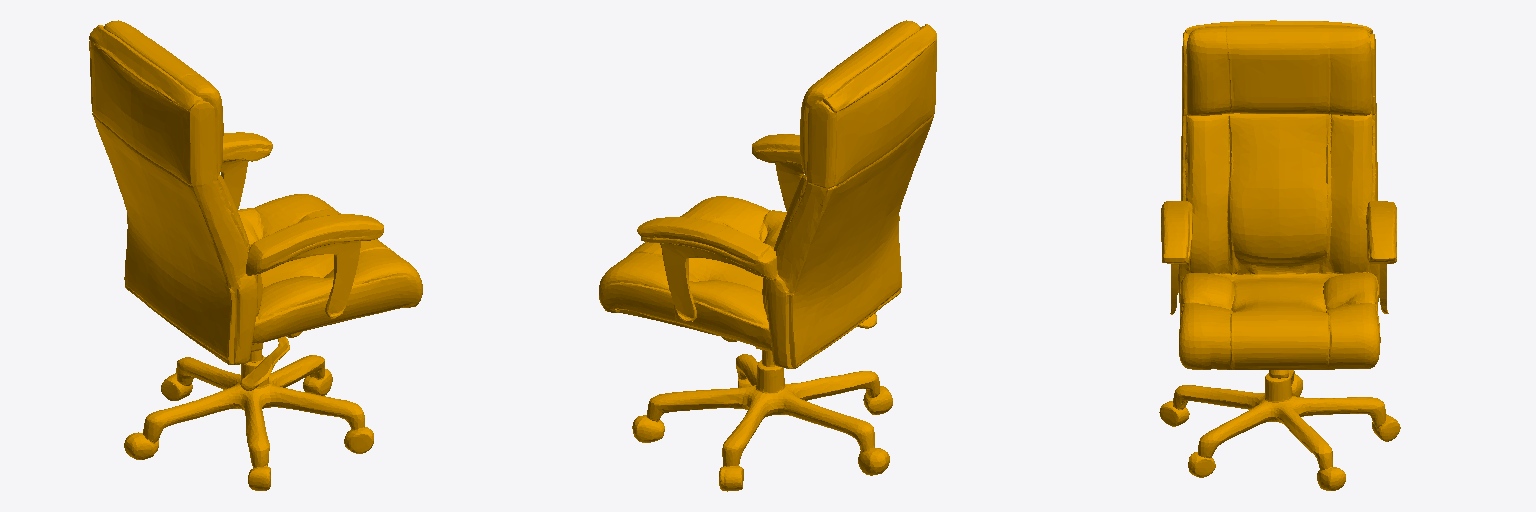
robot.urdf — office_chair_12:
<?xml version="1.0" ?>
<robot name="office_chair_12">
   <link name="office_chair_12">
      <visual>
         <origin xyz="0 0 0" rpy="1.5708 0.0 0.0"/>
         <geometry>
            <mesh filename="mesh/office_chair_12.obj" scale="1.0 1.0 1.0"/>
         </geometry>
      </visual>
      <collision>
         <origin xyz="0 0 0" rpy="1.5708 0.0 0.0"/>
         <geometry>
            <mesh filename="mesh/office_chair_12_collision.obj" scale="1.0 1.0 1.0"/>
         </geometry>
         <gazebo>
            <mu1>0.80</mu1>
            <mu2>0.60</mu2>
         </gazebo>
      </collision>
      <inertial>
         <mass value="15.0000"/>
         <origin xyz="0 0 0"/>
         <inertia ixx="1.0" ixy="0.0" ixz="0.0" iyy="1.0" iyz="0.0" izz="1.0"/>
      </inertial>
      <extra_info>
         <scale>1.100000</scale>
         <version>v0.1.5</version>
         <category>office_chair</category>
         <description>ergonomic office chair with padded seat, backrest, armrests, and wheeled base</description>
         <min_height>1.0</min_height>
         <max_height>1.2</max_height>
         <real_height>1.1</real_height>
         <min_mass>12.0</min_mass>
         <max_mass>18.0</max_mass>
         <generate_time>20251021113035</generate_time>
         <gs_model>mesh/office_chair_12_gs.ply</gs_model>
      </extra_info>
   </link>
   <custom_data>
      <quality>
         <MeshGeoChecker>YES</MeshGeoChecker>
         <ImageSegChecker>YES</ImageSegChecker>
         <ImageAestheticChecker>4.946036458015442</ImageAestheticChecker>
         <overall>YES</overall>
      </quality>
   </custom_data>
</robot>

--- Render facts (derived) ---
3 views of the same robot in one strip: view 1: azimuth 30°, elevation 25°; view 2: azimuth 150°, elevation 25°; view 3: azimuth 270°, elevation 25° (orthographic).
Robot: office_chair_12 — 1 links, 0 joints (none); root link office_chair_12; default pose: every joint at zero.
Visible links, largest first — view 1: office_chair_12; view 2: office_chair_12; view 3: office_chair_12.
Link boxes in pixels (x1,y1,x2,y2): office_chair_12: (89,20,422,490); office_chair_12: (599,20,936,491); office_chair_12: (1159,20,1400,490).
Size in the robot's own frame: 0.6893 by 0.6383 by 1.1 metres.
Meshes: 1 distinct files referenced, 1 mesh visuals loaded (1 OBJ).
